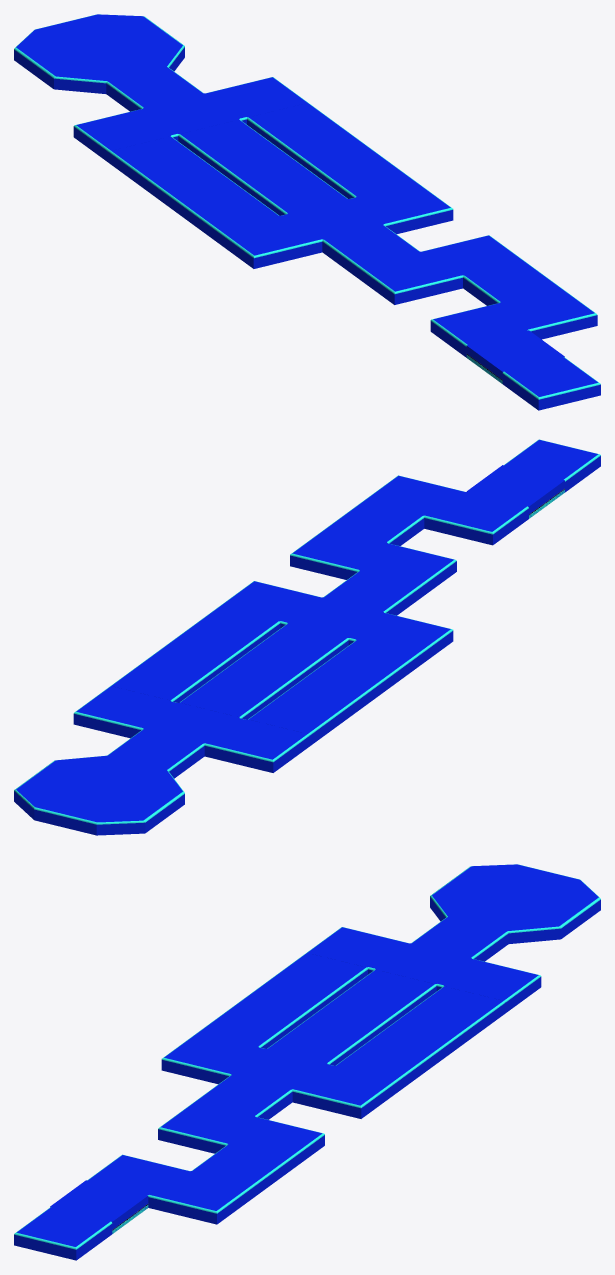
Rendered from piezas.fbx.
3 renders of one model, top to bottom at view 1: azimuth 30°, elevation 25°; view 2: azimuth 150°, elevation 25°; view 3: azimuth 330°, elevation 25°, orthographic.
Visible parts, largest first — view 1: normal.003, base.001, base.002, ampliaIzquierda, ampliaDerecha, inicio, base, normal.013, normal.001, normal.010, normal.007, normal.002 (+8 smaller); view 2: normal.003, base.002, base.001, ampliaDerecha, ampliaIzquierda, base, normal.013, normal.007, normal.010, normal.002, inicio, normal.004 (+8 smaller); view 3: normal.003, base.001, base.002, ampliaDerecha, ampliaIzquierda, inicio, base, normal.012, normal.009, normal.006, normal.004, normal.001 (+8 smaller).
Part boxes in pixels (bbox=[...]): normal.003: bbox=[14, 14, 184, 93]; base.001: bbox=[217, 182, 453, 268]; base.002: bbox=[73, 77, 307, 163]; ampliaIzquierda: bbox=[358, 235, 523, 304]; ampliaDerecha: bbox=[430, 287, 597, 357]; inicio: bbox=[502, 357, 600, 410]; base: bbox=[466, 330, 564, 383]; normal.013: bbox=[109, 136, 206, 189]; normal.001: bbox=[322, 225, 419, 278]; normal.010: bbox=[145, 162, 242, 215]; normal.007: bbox=[181, 189, 278, 242]; normal.002: bbox=[106, 67, 203, 111]; normal.003: bbox=[14, 755, 184, 835]; base.002: bbox=[73, 686, 309, 772]; base.001: bbox=[219, 581, 453, 667]; ampliaDerecha: bbox=[363, 475, 528, 545]; ampliaIzquierda: bbox=[290, 527, 456, 597]; base: bbox=[466, 465, 564, 518]; normal.013: bbox=[248, 693, 345, 746]; normal.007: bbox=[320, 640, 417, 693]; normal.010: bbox=[284, 666, 381, 719]; normal.002: bbox=[107, 729, 204, 778]; inicio: bbox=[504, 439, 600, 492]; normal.004: bbox=[327, 501, 424, 545]; normal.003: bbox=[430, 864, 600, 943]; base.001: bbox=[161, 1032, 397, 1118]; base.002: bbox=[307, 927, 541, 1013]; ampliaDerecha: bbox=[87, 1154, 252, 1224]; ampliaIzquierda: bbox=[158, 1101, 324, 1171]; inicio: bbox=[14, 1207, 112, 1260]; base: bbox=[50, 1180, 148, 1233]; normal.012: bbox=[408, 986, 505, 1039]; normal.009: bbox=[372, 1012, 469, 1065]; normal.006: bbox=[336, 1039, 433, 1092]; normal.004: bbox=[192, 1144, 288, 1197]; normal.001: bbox=[195, 1075, 292, 1119].
Bounding box in the file's own units: 640 × 38.15 × 2800.
1 material, 1 textured.
